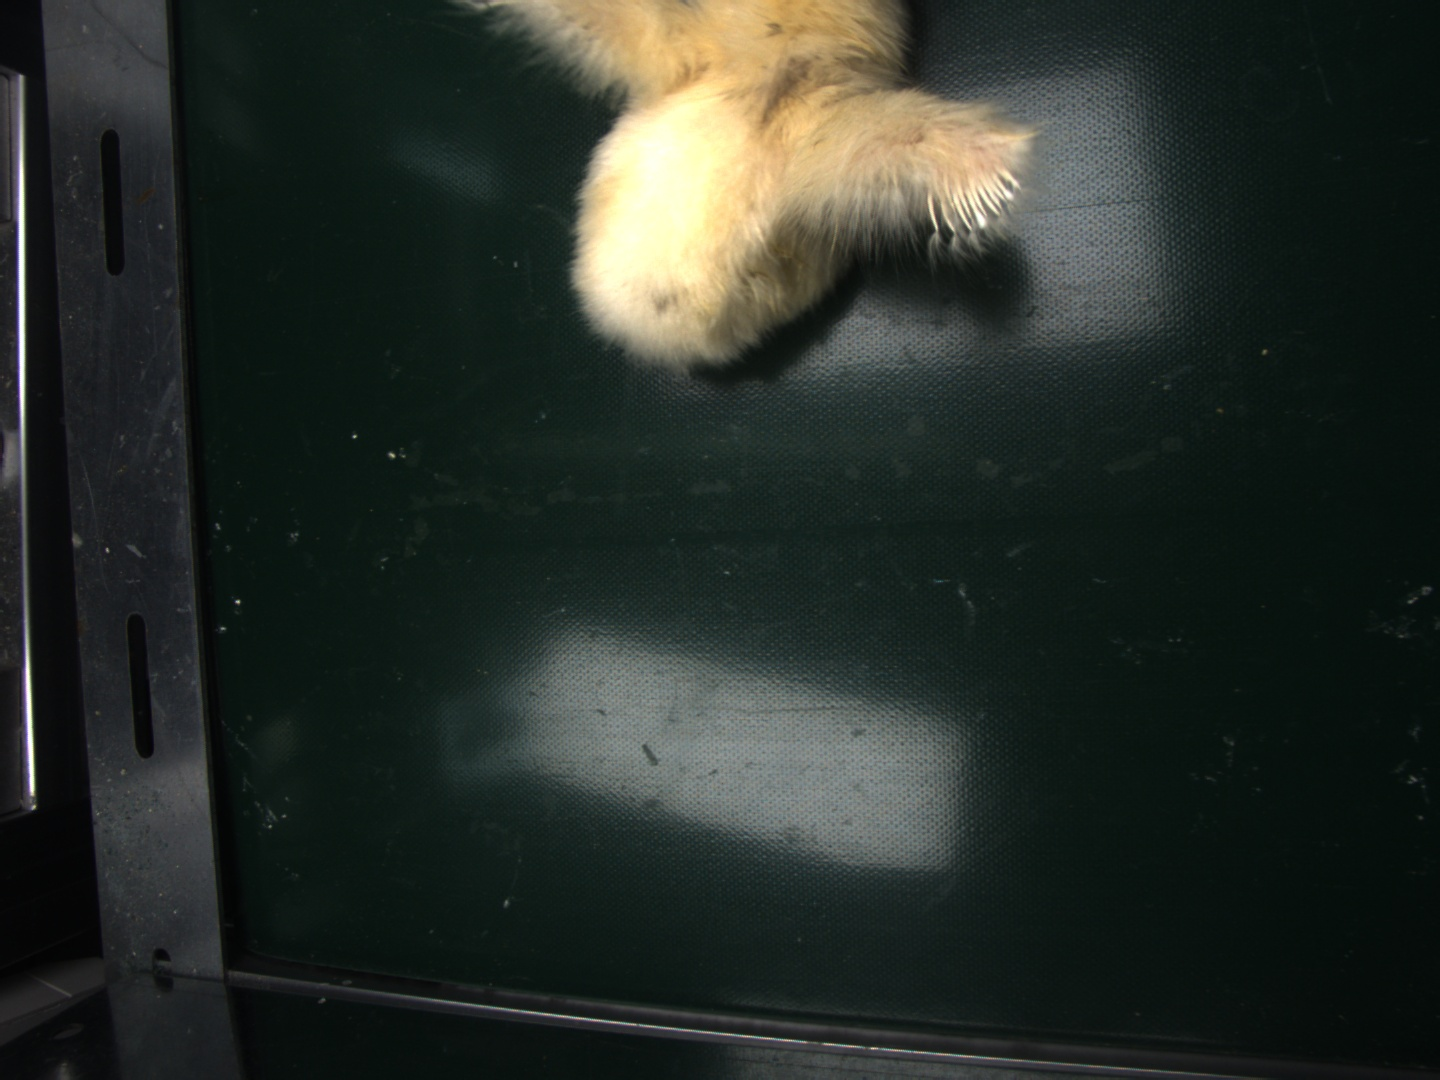male: (934, 171, 1015, 230)
